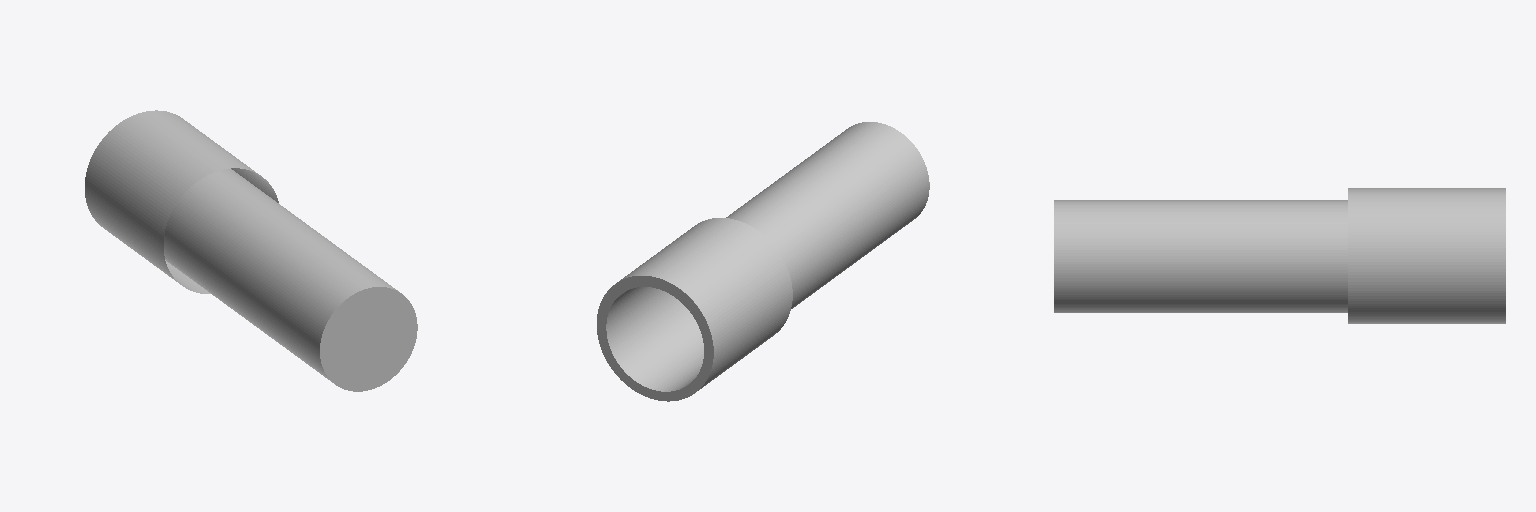
The model's file is grs_medium_consumer_pipe.obj.
3 views of the same model, side by side, from view 1: azimuth 30°, elevation 25°; view 2: azimuth 150°, elevation 25°; view 3: azimuth 270°, elevation 25° (orthographic).
Parts seen in each view (by area): view 1: obj1; view 2: obj1; view 3: obj1.
Boxes of the visible parts, x1=… form: obj1: x1=85, y1=110, x2=417, y2=391; obj1: x1=597, y1=122, x2=929, y2=401; obj1: x1=1054, y1=188, x2=1505, y2=323.
Size of the model in its own units: 0.6 by 0.5998 by 2.